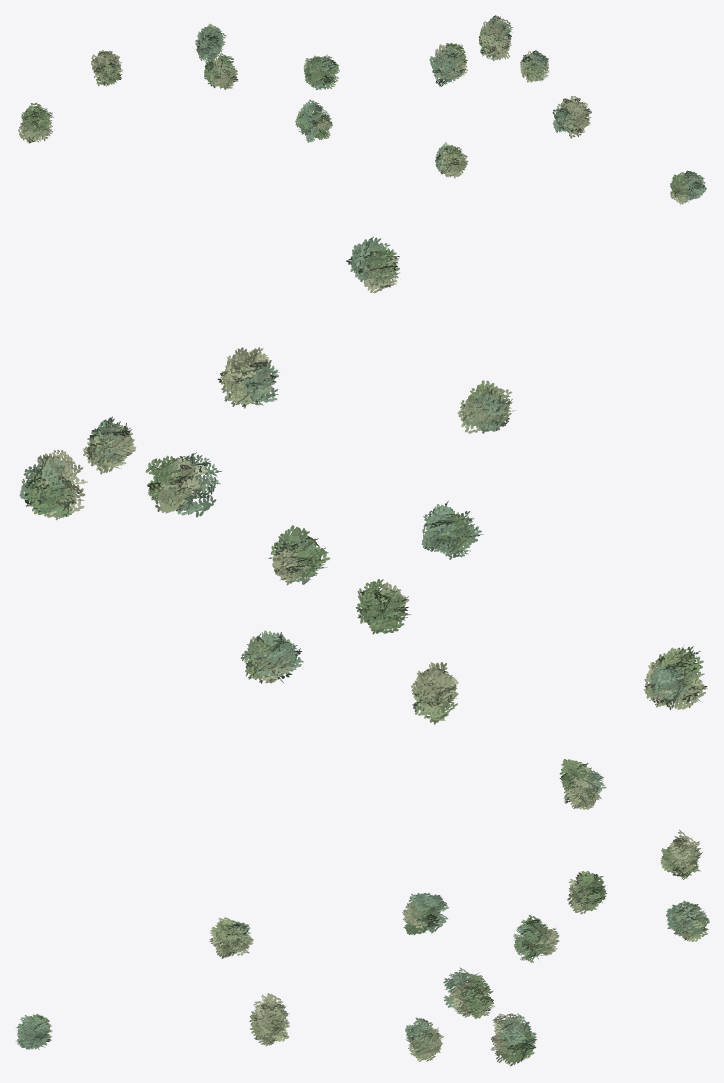
The model's file is campus-tree-5_-2-middle.glb.
The picture shows the model from 3 angles, top to bottom: view 1: azimuth 30°, elevation 25°; view 2: azimuth 150°, elevation 25°; view 3: azimuth 270°, elevation 25°; orthographic projection. The views are drawn at different scales.
Parts seen in each view (by area): view 1: Campus leaf canopy; view 2: Campus leaf canopy; view 3: Campus leaf canopy.
Boxes of the visible parts, <box> form: Campus leaf canopy: <box>18,15,706,204</box>; Campus leaf canopy: <box>19,236,707,724</box>; Campus leaf canopy: <box>15,759,709,1066</box>.
Size of the model in its own units: 68.55 by 6.82 by 73.41.
1 material, 1 textured.
